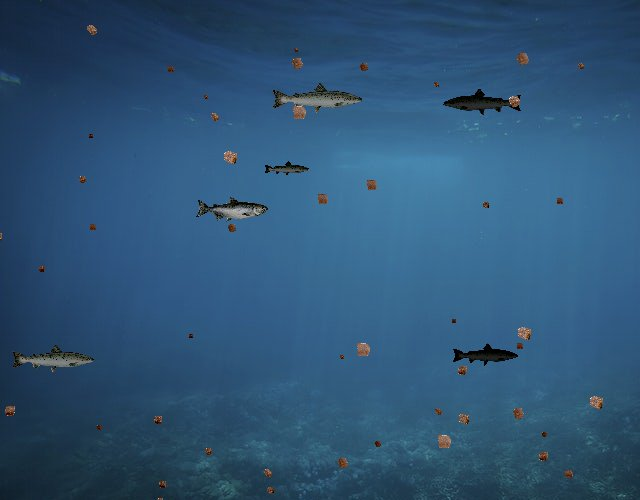Fish: (271, 82, 365, 116), (10, 343, 96, 374), (443, 88, 524, 117), (195, 196, 268, 223), (451, 343, 519, 367), (264, 161, 311, 178)
Pellet: (510, 46, 536, 72), (502, 89, 527, 114), (80, 19, 102, 41), (354, 58, 372, 76), (478, 198, 492, 212), (538, 428, 551, 441), (200, 92, 210, 102)
